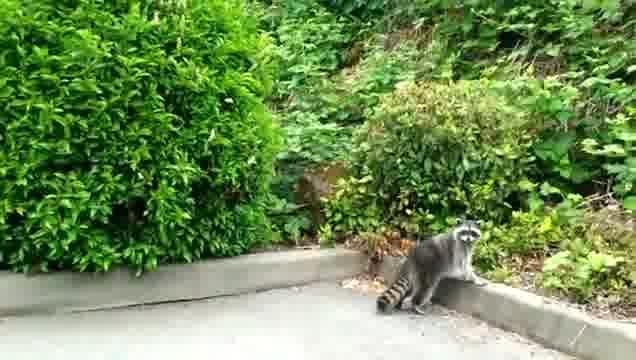raccoon: (376, 219, 488, 315)
